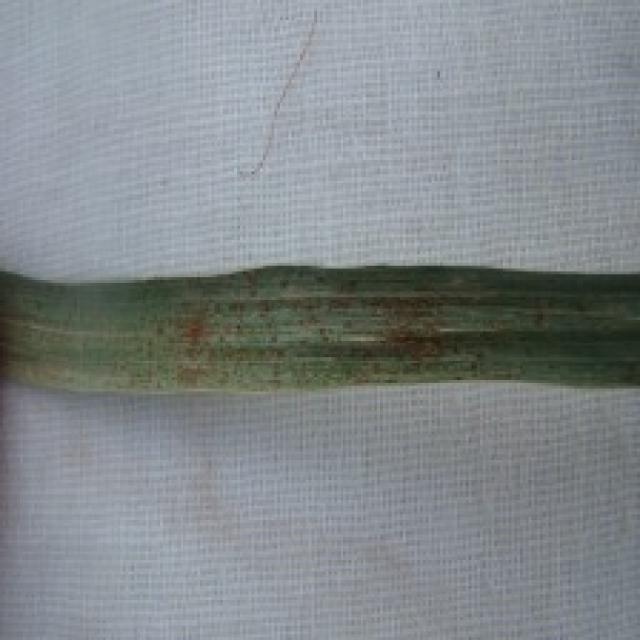Brown_Spot: (357, 321, 458, 368), (366, 284, 466, 320), (167, 304, 226, 360), (309, 268, 356, 316)
